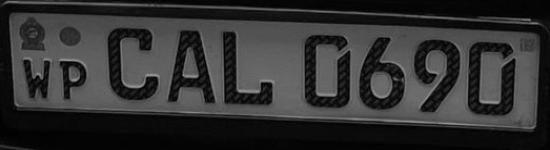0: (299, 28, 356, 113), (466, 38, 519, 120)
6: (357, 32, 410, 115)
9: (412, 34, 464, 116)
A: (164, 24, 218, 110)
C: (101, 21, 164, 106)
L: (220, 25, 279, 113)
P: (57, 55, 90, 107)
W: (18, 52, 57, 104)
